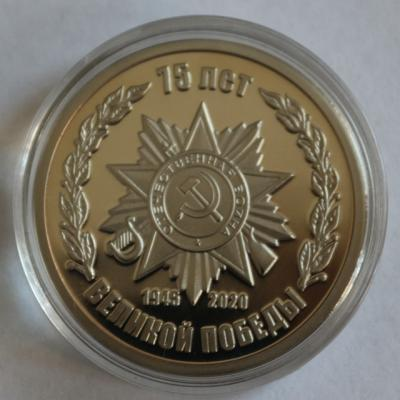numismatics: (14, 16, 387, 393)
